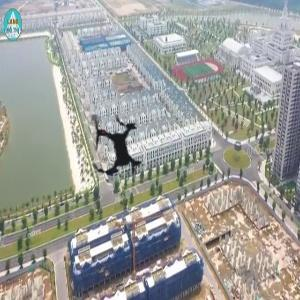drone: (60, 93, 171, 204)
